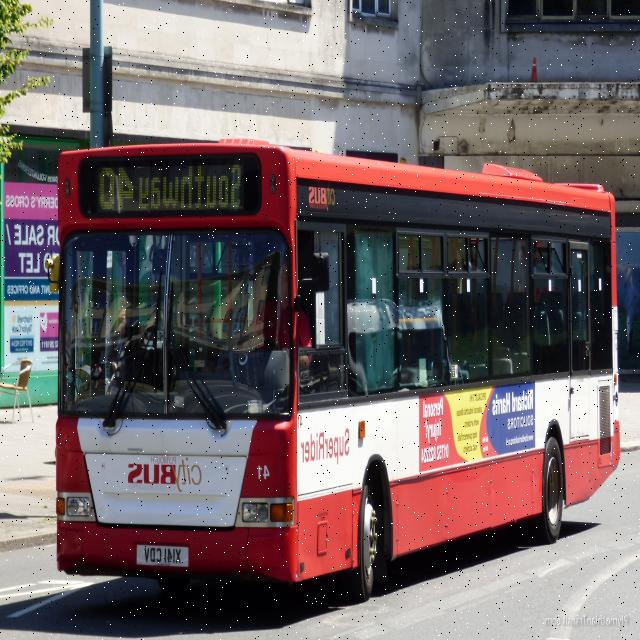Bus: (57, 142, 621, 590)
